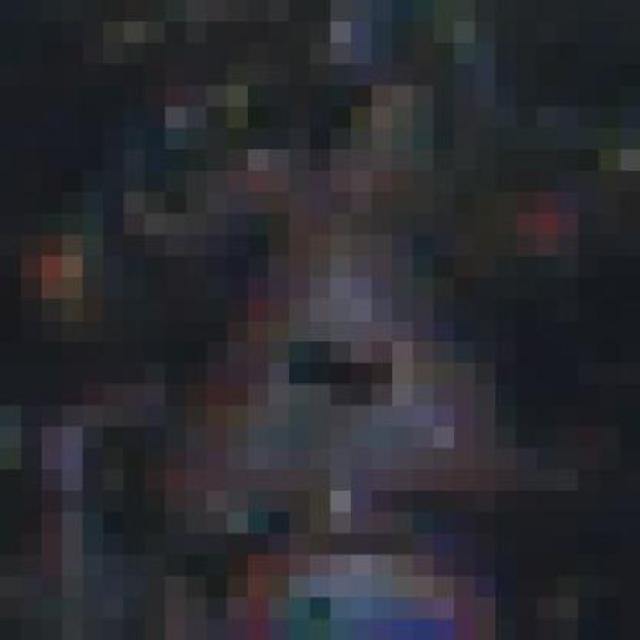Slippery Road Ahead: (124, 150, 516, 556)
